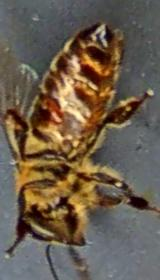varroa_mite: (34, 93, 67, 129)
